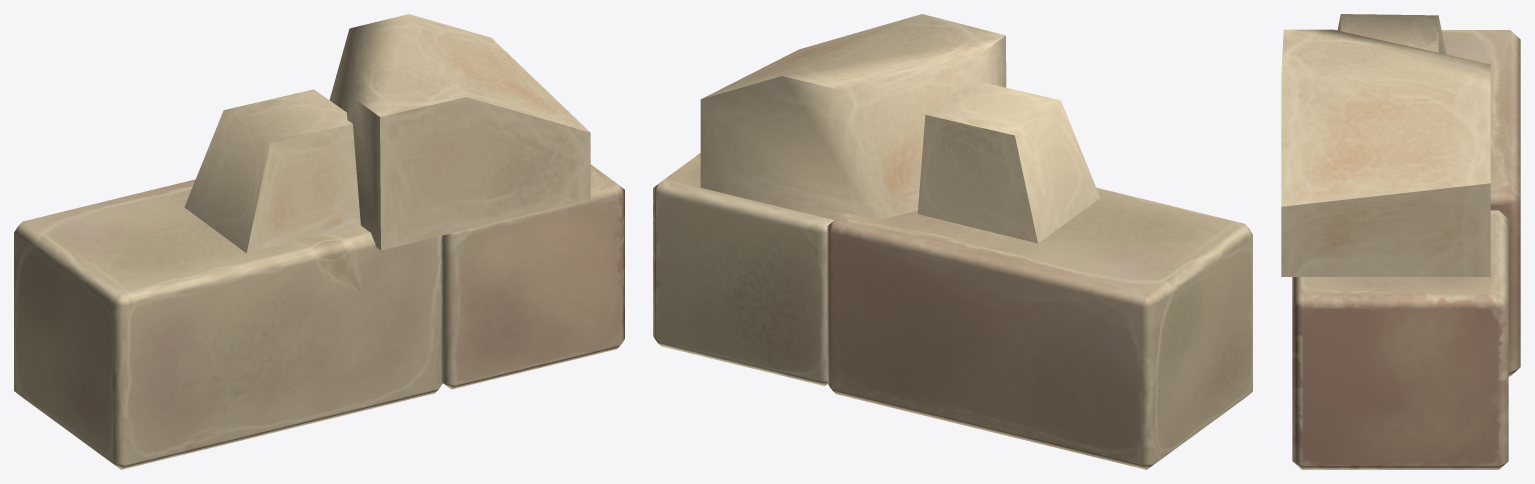
The model's file is rubbles2.fbx.
3 renders of one model, left to right at view 1: azimuth 30°, elevation 25°; view 2: azimuth 150°, elevation 25°; view 3: azimuth 270°, elevation 25°, orthographic. The views are drawn at different scales.
Parts seen in each view (by area): view 1: rubbles2_LOD0; view 2: rubbles2_LOD0; view 3: rubbles2_LOD0.
Boxes of the visible parts, x1,y1,x2,y2 form: rubbles2_LOD0: (14, 14, 624, 469); rubbles2_LOD0: (653, 14, 1252, 469); rubbles2_LOD0: (1281, 14, 1520, 469).
Size of the model in its own units: 1.24 by 0.6913 by 0.4765.
